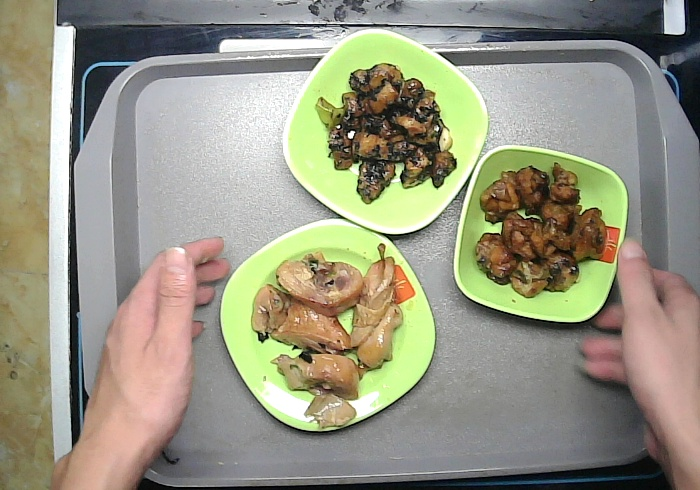SHKJ-Lv_Se_Cai_Die: (281, 28, 490, 234)
SHKJ-Lv_Se_Si_Fang_Cai_Die: (216, 219, 440, 436)
SHKJ-Lv_Se_Xiao_Fang_Die: (450, 141, 633, 325)
